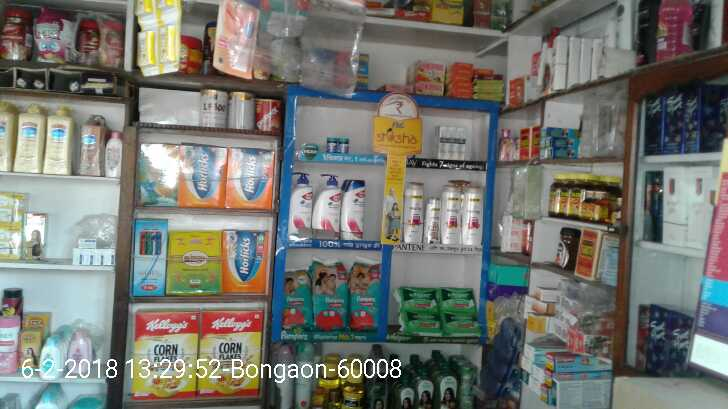vicks: (325, 134, 351, 158)
